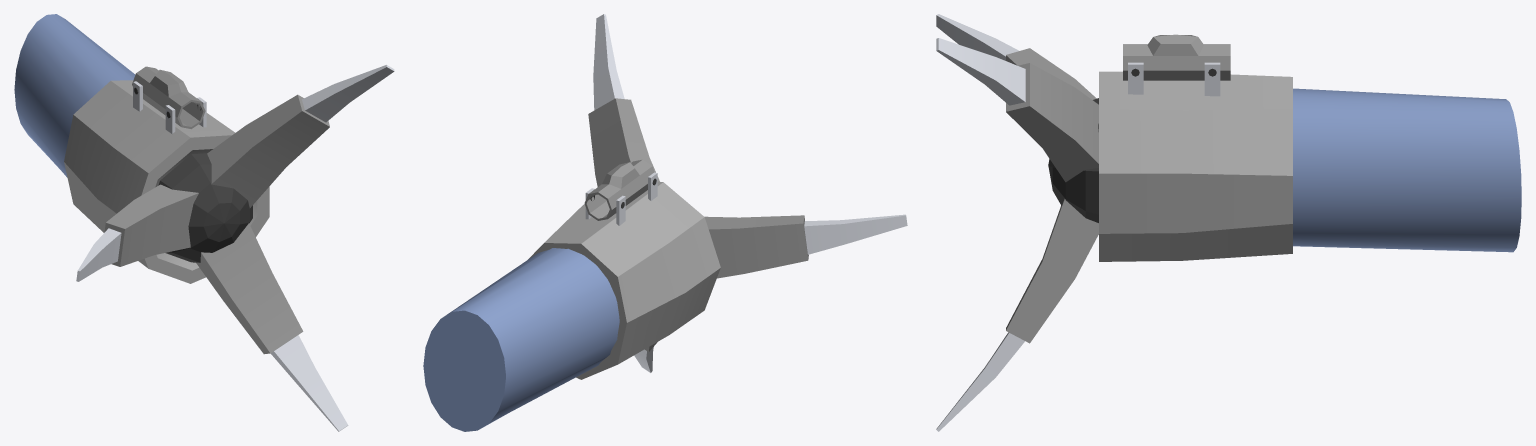
The model's file is ude.fbx.
3 views of the same model, side by side, from view 1: azimuth 30°, elevation 25°; view 2: azimuth 150°, elevation 25°; view 3: azimuth 270°, elevation 25° (orthographic). The views are drawn at different scales.
Visible parts, largest first — view 1: waiya_, migiude, polySurface7, polySurface3, polySurface5; view 2: migiude, waiya_, polySurface5, polySurface3; view 3: waiya_, migiude, polySurface3, polySurface7, polySurface5.
Part boxes in pixels (bbox=[...]): waiya_: bbox=[64, 66, 269, 283]; migiude: bbox=[14, 14, 135, 177]; polySurface7: bbox=[196, 223, 348, 431]; polySurface3: bbox=[207, 65, 394, 207]; polySurface5: bbox=[76, 184, 198, 281]; migiude: bbox=[423, 248, 619, 431]; waiya_: bbox=[528, 159, 720, 379]; polySurface5: bbox=[704, 214, 907, 278]; polySurface3: bbox=[588, 14, 659, 186]; waiya_: bbox=[1048, 34, 1292, 261]; migiude: bbox=[1293, 88, 1521, 252]; polySurface3: bbox=[936, 38, 1098, 182]; polySurface7: bbox=[936, 199, 1098, 431]; polySurface5: bbox=[936, 14, 1096, 99].
Size of the model in its own units: 3.28 by 3.51 by 4.42.
